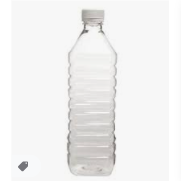Bottle: (69, 10, 116, 175)
